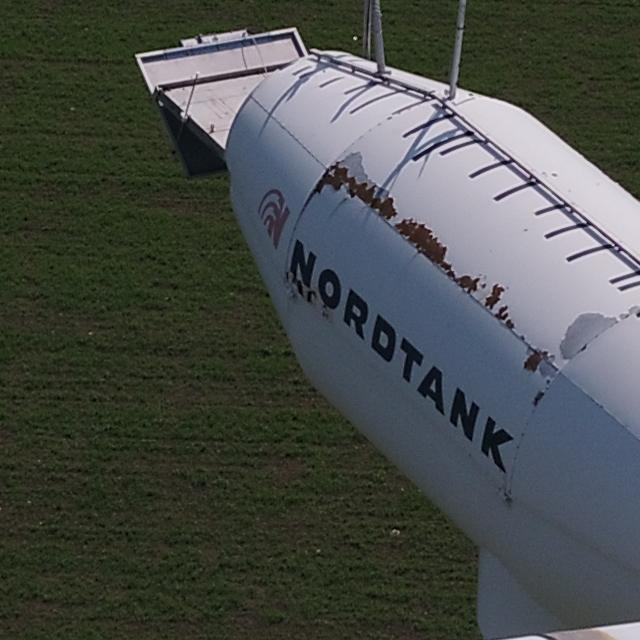damage: (305, 151, 399, 221), (557, 308, 623, 365), (389, 215, 453, 272), (444, 268, 482, 299), (521, 347, 554, 374), (481, 282, 504, 312), (529, 390, 551, 407), (494, 302, 509, 322), (293, 279, 305, 298), (506, 321, 516, 333), (321, 311, 329, 320)
